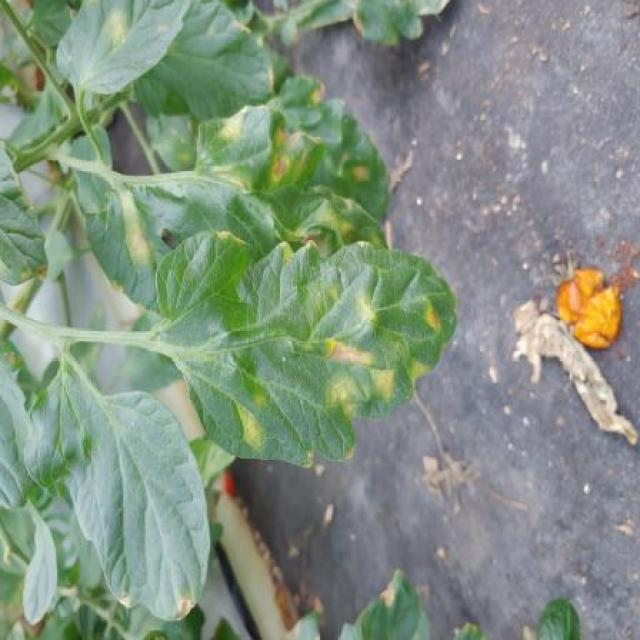Leaf Mold: (157, 227, 459, 467), (94, 104, 390, 319), (57, 0, 192, 96)
